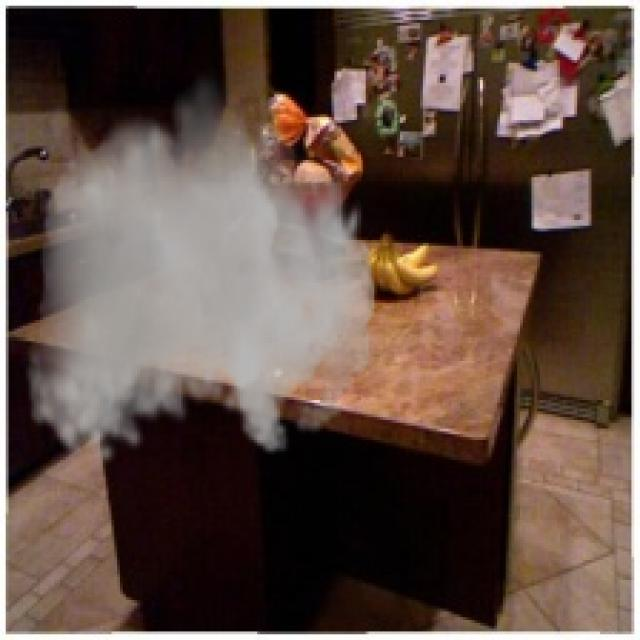smoke: (26, 66, 374, 466)
